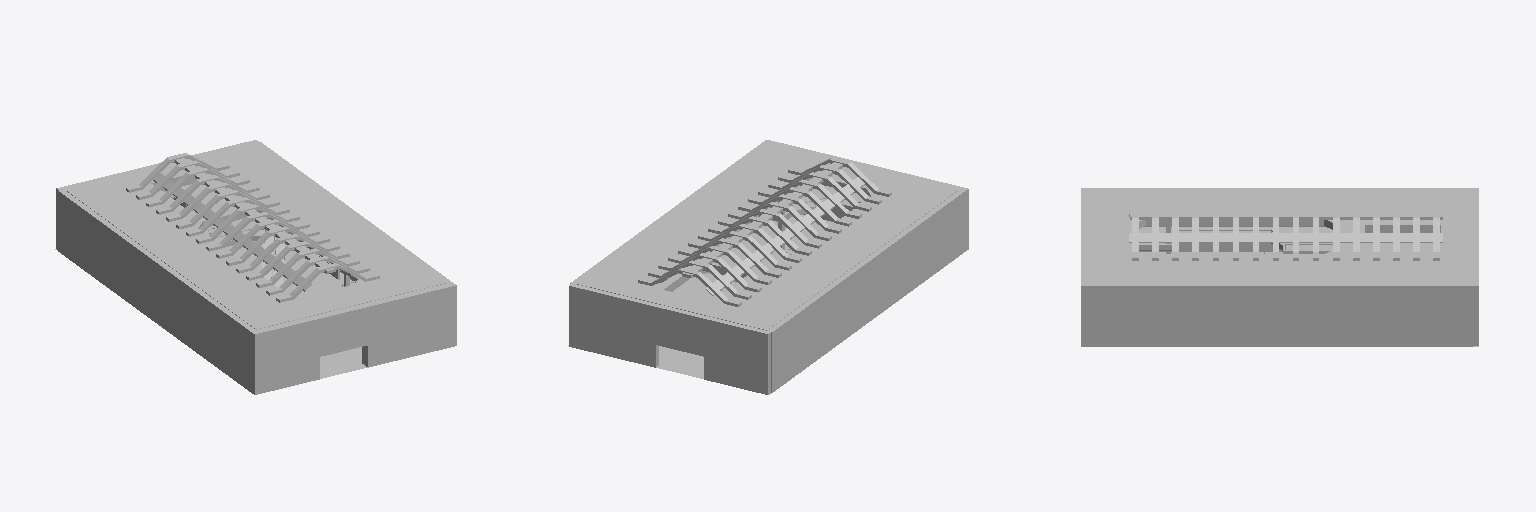
File: GITest.obj
The picture shows the model from 3 angles: view 1: azimuth 30°, elevation 25°; view 2: azimuth 150°, elevation 25°; view 3: azimuth 270°, elevation 25°; orthographic projection.
Parts seen in each view (by area): view 1: Plane, Plane.001, Cube.023, Plane.002, Cube.022, Cube.024, Cube.005; view 2: Plane.001, Plane, Cube.005, Cube.023, Plane.002, Cube.022, Cube.024; view 3: Plane, Plane.001, Cube.023, Cube.022, Cube.024, Cube.005.
Part boxes in pixels (left/top/right/bottom): Plane: left=58, top=142, right=456, bottom=394; Plane.001: left=65, top=143, right=445, bottom=329; Cube.023: left=126, top=153, right=379, bottom=302; Plane.002: left=55, top=241, right=367, bottom=378; Cube.022: left=153, top=173, right=357, bottom=291; Cube.024: left=170, top=154, right=335, bottom=273; Cube.005: left=56, top=140, right=258, bottom=249; Plane.001: left=577, top=144, right=957, bottom=330; Plane: left=570, top=140, right=968, bottom=392; Cube.005: left=569, top=283, right=770, bottom=394; Cube.023: left=638, top=157, right=891, bottom=306; Plane.002: left=568, top=215, right=833, bottom=394; Cube.022: left=660, top=177, right=864, bottom=295; Cube.024: left=682, top=159, right=845, bottom=277; Plane: left=1081, top=188, right=1472, bottom=346; Plane.001: left=1090, top=190, right=1472, bottom=282; Cube.023: left=1132, top=209, right=1439, bottom=260; Cube.022: left=1129, top=214, right=1442, bottom=242; Cube.024: left=1130, top=213, right=1442, bottom=219; Cube.005: left=1473, top=188, right=1478, bottom=345.
Size of the model in its own units: 16.99 by 6.79 by 29.05.